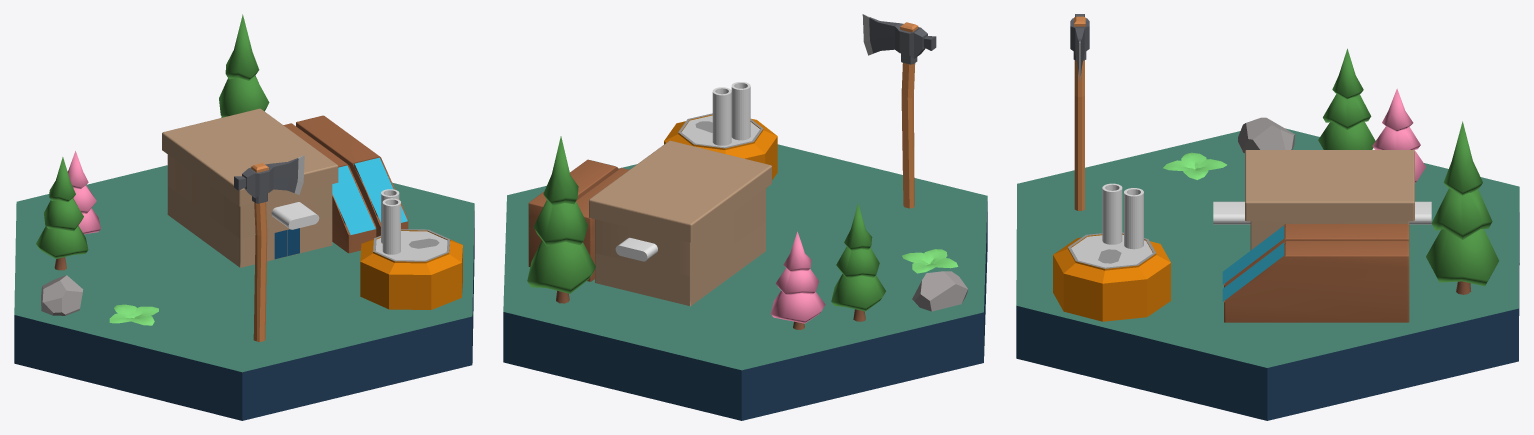
The model's file is Macro - Factory lvl 1 WM2.fbx.
The picture shows the model from 3 angles, left to right: view 1: azimuth 30°, elevation 25°; view 2: azimuth 150°, elevation 25°; view 3: azimuth 270°, elevation 25°; orthographic projection. The views are drawn at different scales.
Parts seen in each view (by area): view 1: Cylinder.155, Cube.074, drink_004.003, axe v:130 f:129, Tree_Spruce_tiny_01.001, Tree_Spruce_tiny_01.002, Cube.035, Cube.069, Plane.087, Rock Type2 04 mesh.001, Tree_Spruce_tiny_01.003, Plane.086 (+3 smaller); view 2: Cylinder.155, Cube.074, Tree_Spruce_tiny_01.002, axe v:130 f:129, Tree_Spruce_tiny_01.001, drink_004.003, Tree_Spruce_tiny_01.003, Cube.035, Rock Type2 04 mesh.001, Cylinder.164, Cylinder.167, Cube.069 (+2 smaller); view 3: Cylinder.155, Cube.074, Cube.035, drink_004.003, Tree_Spruce_tiny_01.002, Tree_Spruce_tiny_01.001, axe v:130 f:129, Cube.069, Tree_Spruce_tiny_01.003, Rock Type2 04 mesh.001, Cylinder.167, Cutter.014 (+4 smaller).
Boxes of the visible parts, x1,y1,x2,y2 form: Cylinder.155: [14, 165, 474, 420]; Cube.074: [162, 108, 338, 267]; drink_004.003: [360, 229, 462, 309]; axe v:130 f:129: [234, 155, 304, 341]; Tree_Spruce_tiny_01.001: [36, 157, 88, 270]; Tree_Spruce_tiny_01.002: [219, 14, 269, 117]; Cube.035: [296, 115, 408, 237]; Cube.069: [283, 123, 376, 253]; Plane.087: [332, 165, 375, 234]; Rock Type2 04 mesh.001: [41, 275, 83, 315]; Tree_Spruce_tiny_01.003: [67, 151, 100, 234]; Plane.086: [355, 157, 407, 222]; Cylinder.155: [503, 144, 987, 420]; Cube.074: [589, 140, 771, 306]; Tree_Spruce_tiny_01.002: [527, 136, 595, 303]; axe v:130 f:129: [862, 14, 936, 208]; Tree_Spruce_tiny_01.001: [831, 203, 885, 321]; drink_004.003: [664, 113, 777, 188]; Tree_Spruce_tiny_01.003: [770, 231, 825, 329]; Cube.035: [528, 159, 618, 266]; Rock Type2 04 mesh.001: [912, 271, 967, 311]; Cylinder.164: [712, 87, 731, 145]; Cylinder.167: [731, 82, 750, 140]; Cube.069: [576, 167, 629, 281]; Cylinder.155: [1016, 128, 1519, 420]; Cube.074: [1245, 150, 1414, 250]; Cube.035: [1224, 241, 1409, 322]; drink_004.003: [1053, 232, 1170, 321]; Tree_Spruce_tiny_01.002: [1426, 121, 1498, 294]; Tree_Spruce_tiny_01.001: [1318, 48, 1375, 149]; axe v:130 f:129: [1070, 14, 1089, 210]; Cube.069: [1224, 224, 1409, 287]; Tree_Spruce_tiny_01.003: [1372, 88, 1425, 183]; Rock Type2 04 mesh.001: [1238, 117, 1295, 152]; Cylinder.167: [1102, 183, 1122, 244]; Cutter.014: [1213, 201, 1431, 224].
Bounding box in the file's own units: 197 × 91.66 × 172.
